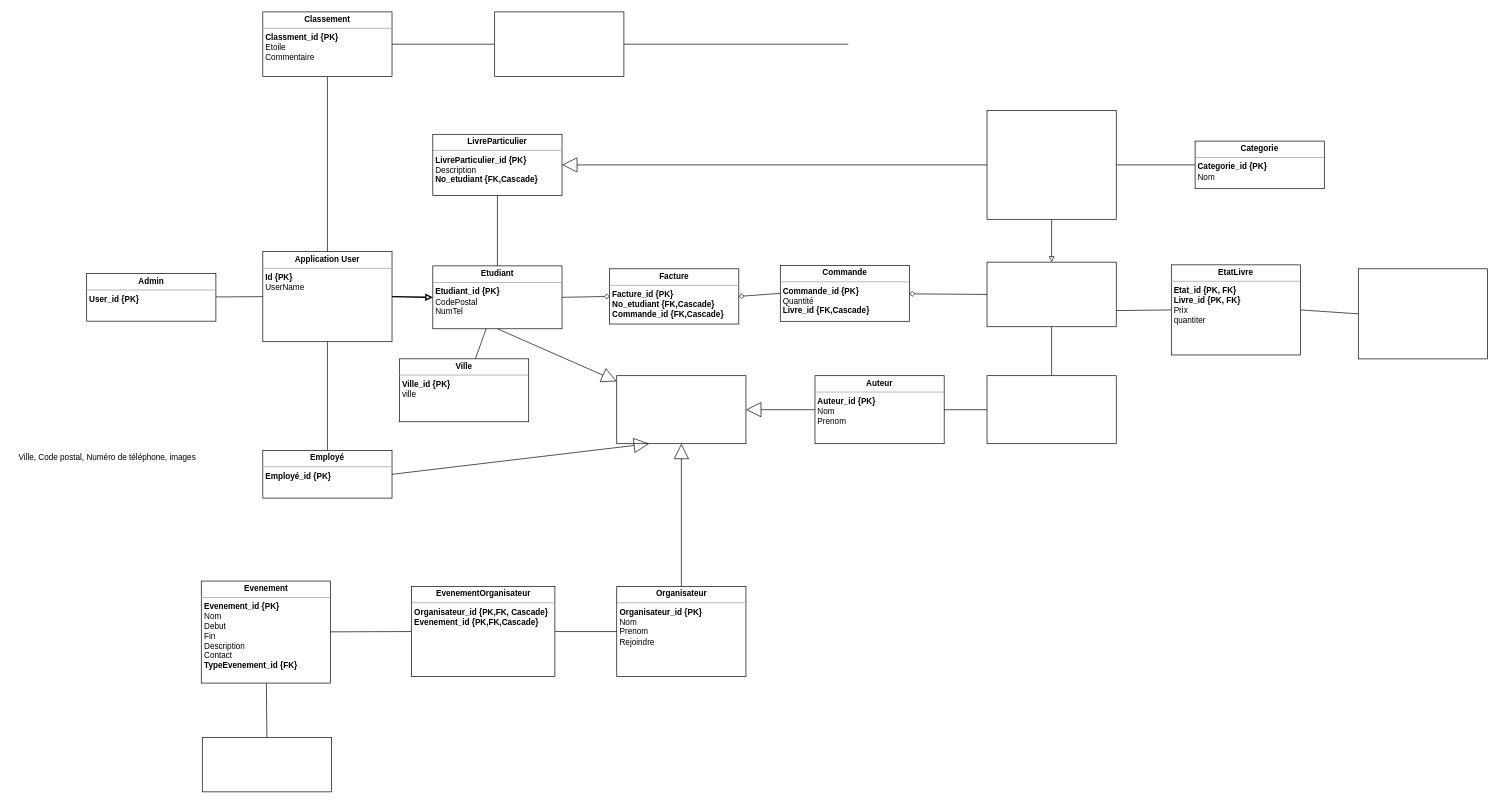
This 1499x804 diagram has some shape labels left out. The centre of each missing label's shape, as x and y in pixels:
Etat Etat_id {PK} Etat: the point at 1423,313
ILivre Livre_id {PK} Titre Image Categorie_id {FK}: the point at 1051,164
IPersonne Personne_id {PK} Nom Prenom: the point at 681,409
Livre ISBN Resumer Auteur_id {FK}: the point at 1051,294
LivreAuteur Auteur_id {PK,FK} Livre_id {PK,FK} Date edition: the point at 1051,409
LivreClassement ISBN W.I.P Livre_id {FK,Cascade} Classsement_id {FK, Cascade }: the point at 559,43
TypeEvenement TypeEvenement_id {PK} Type: the point at 267,764
